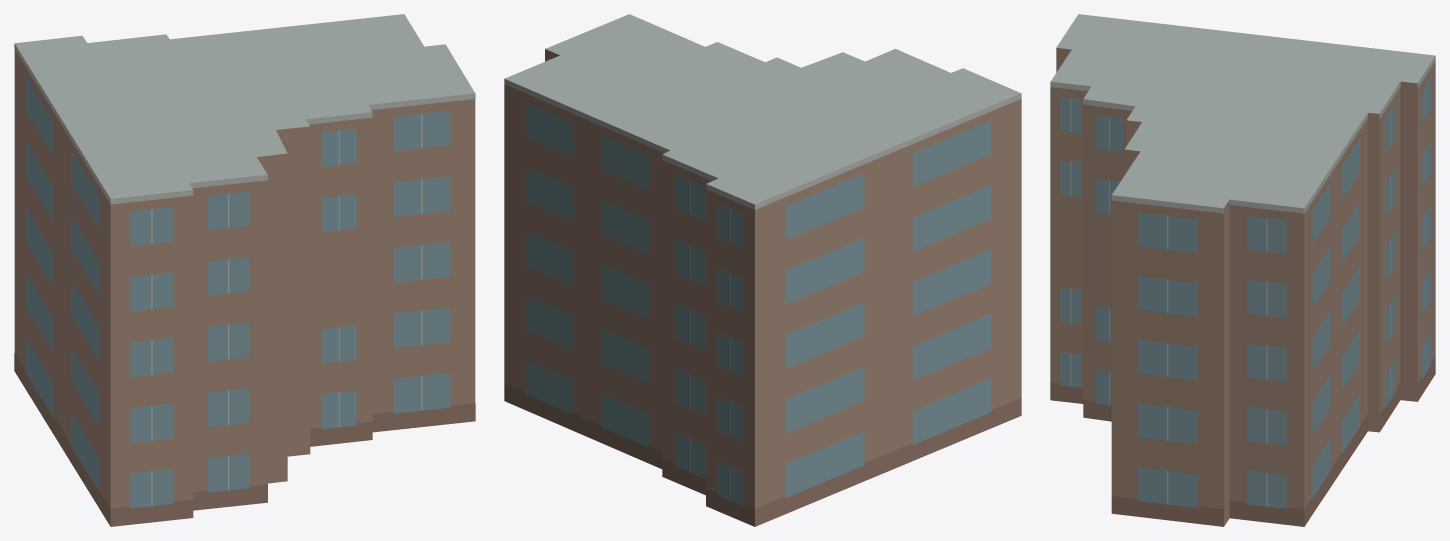
File: survey-upis-32678169.glb
3 views of the same model, side by side, from view 1: azimuth 30°, elevation 25°; view 2: azimuth 150°, elevation 25°; view 3: azimuth 270°, elevation 25° (orthographic). The views are drawn at different scales.
Visible parts, largest first — view 1: survey-upis-32678169.tmp; view 2: survey-upis-32678169.tmp; view 3: survey-upis-32678169.tmp.
Part boxes in pixels (left/top/right/bottom): survey-upis-32678169.tmp: left=14, top=14, right=475, bottom=526; survey-upis-32678169.tmp: left=504, top=14, right=1021, bottom=526; survey-upis-32678169.tmp: left=1050, top=14, right=1435, bottom=526.
Size of the model in its own units: 19.11 by 14.6 by 16.01.
